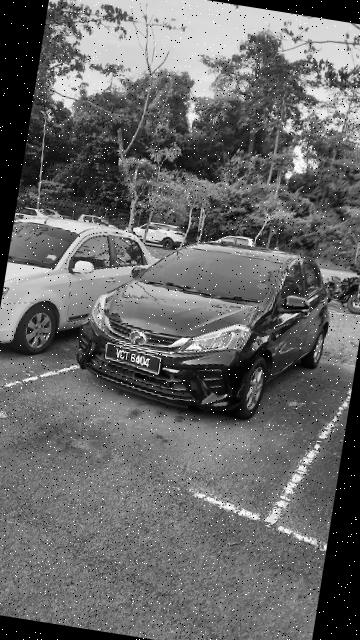License_Plate: (97, 338, 174, 382)
car: (63, 216, 342, 434)
